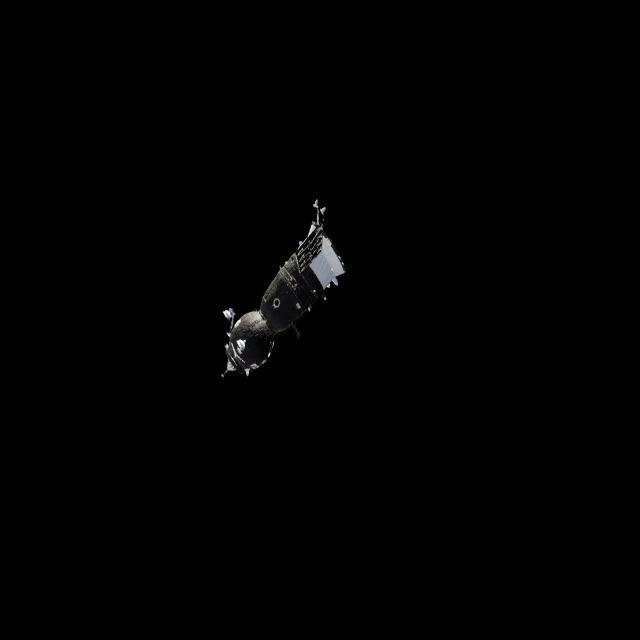Satellites revolving around earth: (219, 197, 347, 380), (220, 308, 276, 379)
